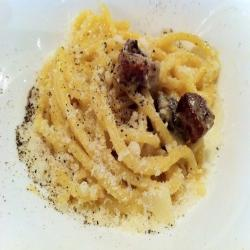carbonara: (21, 18, 228, 240)
